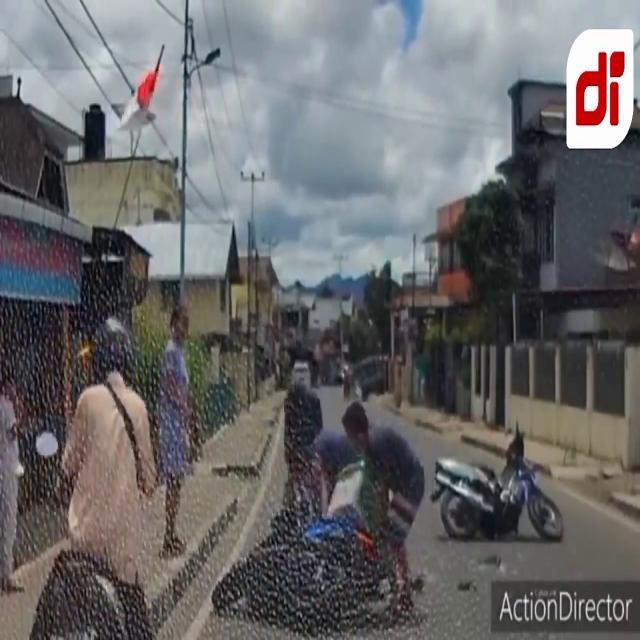multiple_accident: (249, 363, 607, 640)
